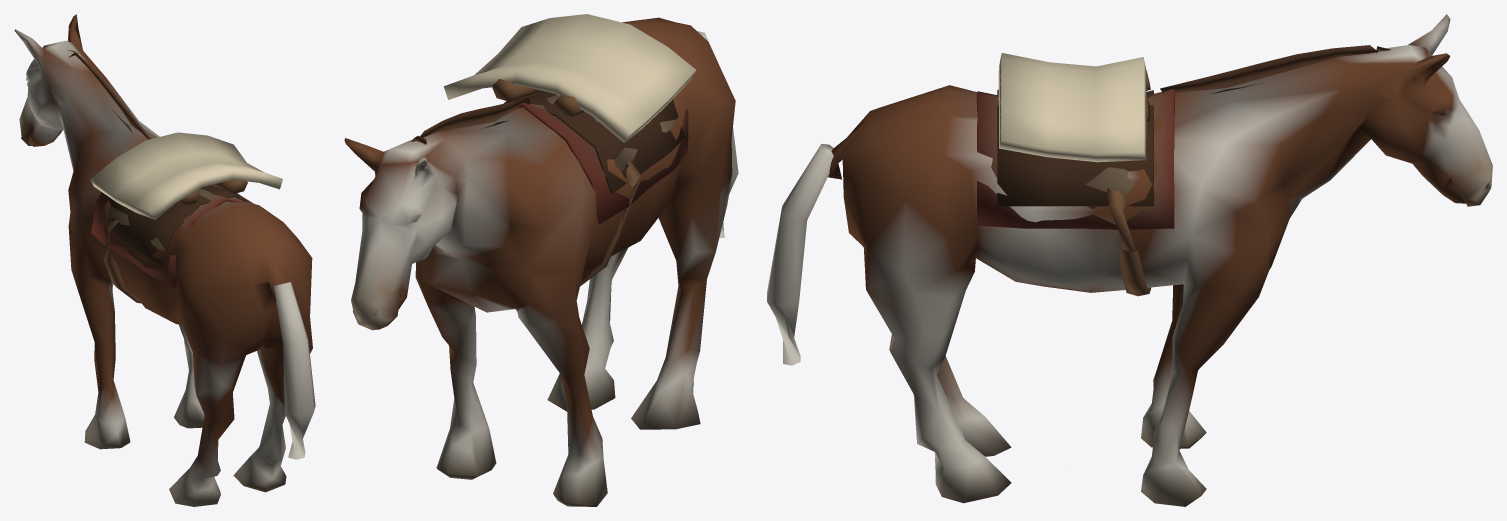
Rendered from caballo_criollo_overo_lod.glb.
3 renders of one model, left to right at view 1: azimuth 30°, elevation 25°; view 2: azimuth 150°, elevation 25°; view 3: azimuth 270°, elevation 25°, orthographic. The views are drawn at different scales.
Visible parts, largest first — view 1: caballo_criollo_overo_lod; view 2: caballo_criollo_overo_lod; view 3: caballo_criollo_overo_lod.
Part boxes in pixels (left/top/right/bottom): caballo_criollo_overo_lod: left=14, top=14, right=315, bottom=506; caballo_criollo_overo_lod: left=344, top=14, right=738, bottom=506; caballo_criollo_overo_lod: left=767, top=14, right=1492, bottom=506.
Size of the model in its own units: 0.7471 by 1.66 by 2.51.
